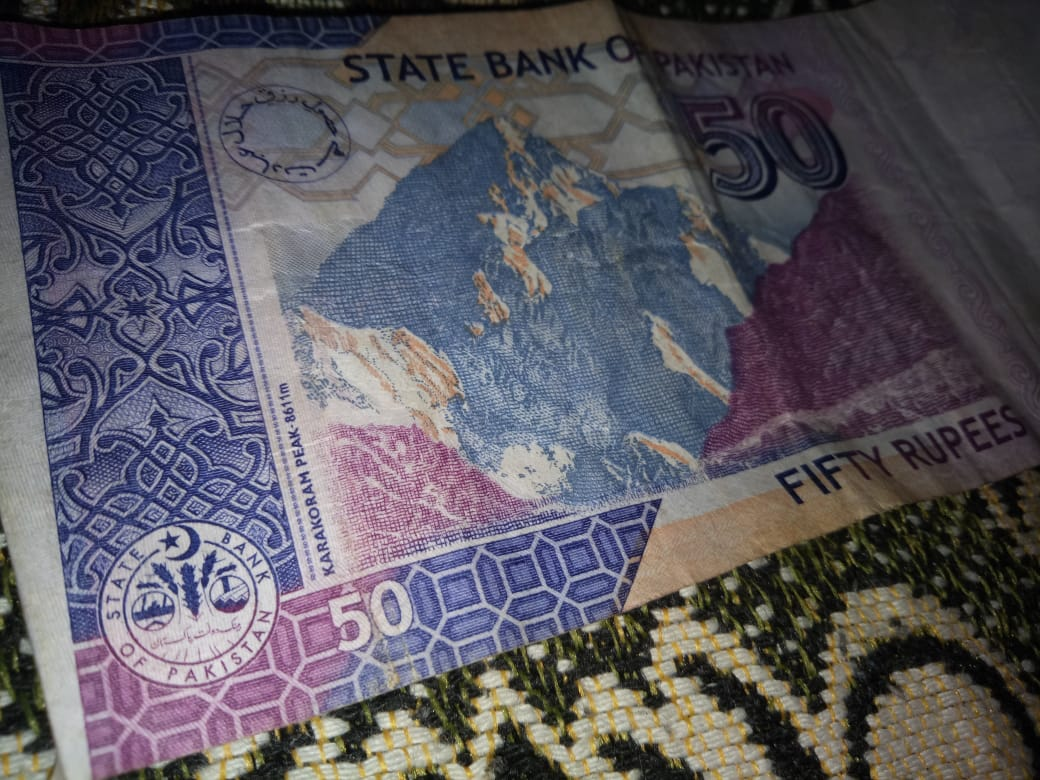50 rupee: (11, 18, 1038, 753)
